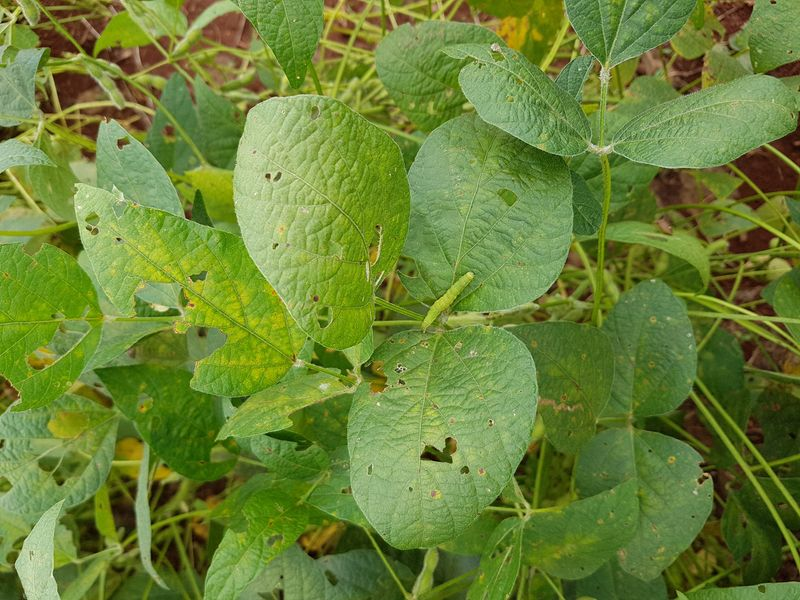Anticarsia_gemmatalis: (414, 266, 490, 339)
